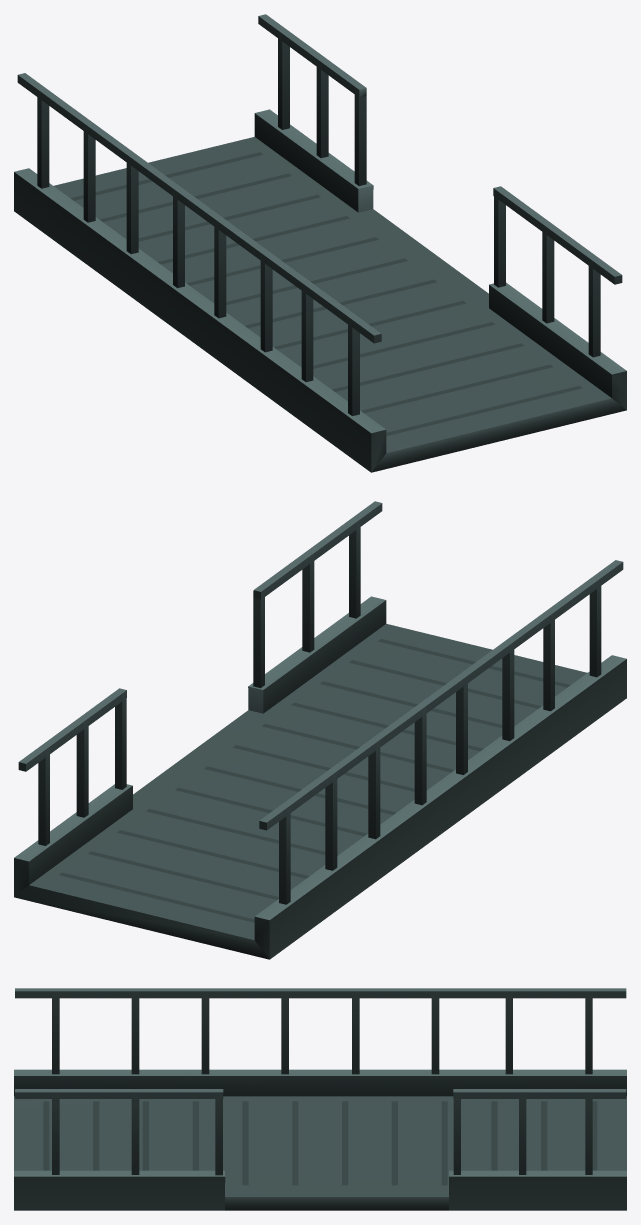
File: Catwalk02.fbx
3 views of the same model, one above another, from view 1: azimuth 30°, elevation 25°; view 2: azimuth 150°, elevation 25°; view 3: azimuth 270°, elevation 25° (orthographic). The views are drawn at different scales.
Visible parts, largest first — view 1: catwalk02, Fence02; view 2: catwalk02, Fence02; view 3: catwalk02, Fence02.
Part boxes in pixels (x1,y1,x2,y2): catwalk02: (14, 109, 626, 472); Fence02: (17, 14, 622, 415); catwalk02: (14, 596, 626, 959); Fence02: (18, 501, 623, 904); catwalk02: (14, 1069, 626, 1210); Fence02: (15, 988, 626, 1175).
Bounding box in the file's own units: 339 × 172 × 821.
